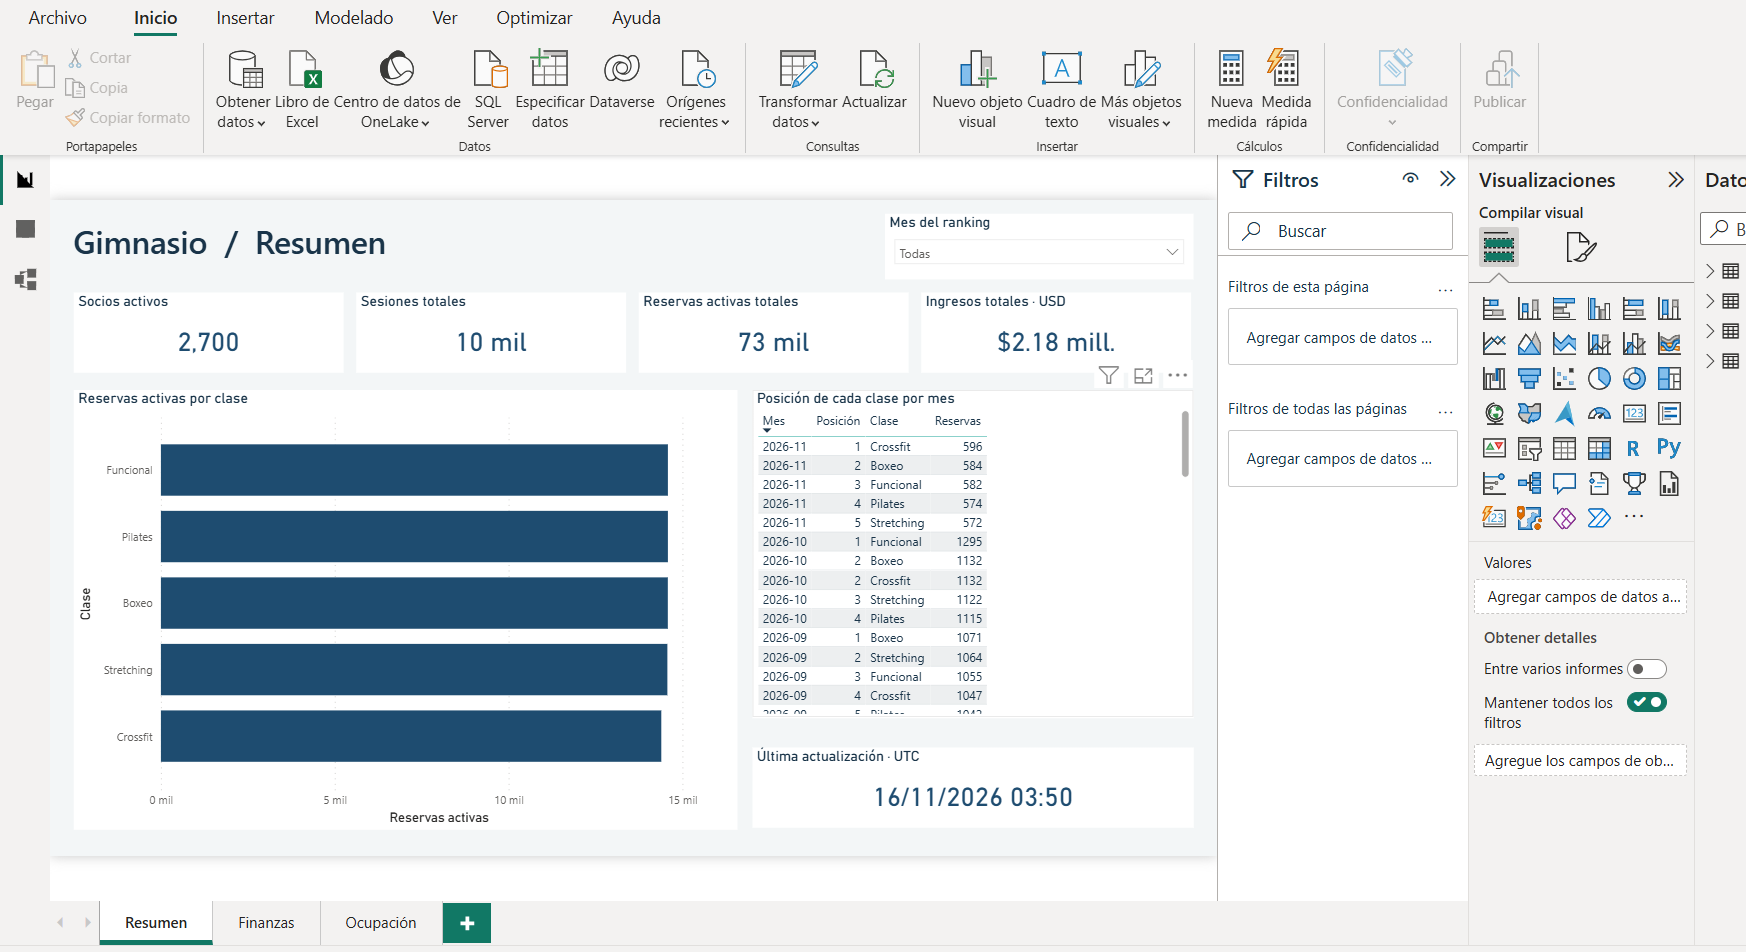

This screenshot's page, from the dashboard's own definition file:
{"tool":"powerbi","page":{"name":"Resumen","canvas":[1280,720],"ordinal":0},"visuals":[{"type":"textbox","box":[20,16,880,66],"z":1000},{"type":"slicer","title":"Mes del ranking","fields":{"Values":["RankingClases.Periodo"]},"box":[916,15,338,72],"z":2000},{"type":"card","title":"Socios activos","fields":{"Values":["Indicadores.Socios activos"]},"box":[26,101,296,88],"z":3000},{"type":"card","title":"Sesiones totales","fields":{"Values":["Indicadores.Sesiones totales"]},"box":[336,101,296,88],"z":4000},{"type":"card","title":"Reservas activas totales","fields":{"Values":["Indicadores.Reservas del gimnasio"]},"box":[646,101,296,88],"z":5000},{"type":"card","title":"Ingresos totales · USD","fields":{"Values":["Indicadores.Ingresos totales"]},"box":[956,101,296,88],"z":6000},{"type":"clusteredBarChart","title":"Reservas activas por clase","fields":{"Category":["RankingClases.Clase"],"Y":["RankingClases.Reservas activas"]},"box":[26,208,728,482],"z":7000},{"type":"tableEx","title":"Posición de cada clase por mes","fields":{"Values":["RankingClases.Periodo","RankingClases.Posicion","RankingClases.Clase","RankingClases.ReservasActivas"]},"box":[770,208,484,360],"z":8000},{"type":"card","title":"Última actualización · UTC","fields":{"Values":["Indicadores.Actualización UTC"]},"box":[770,601,484,88],"z":9000}]}

Visuals, with their boxes on the page's 1280x720 design canvas (x1, y1, x2, y2). These are canvas units, not pixel positions in the 1746x952 screenshot, which may show the page scaled, cropped or inside an application window:
textbox: rect(20, 16, 900, 82)
"Mes del ranking" slicer: rect(916, 15, 1254, 87)
"Socios activos" card: rect(26, 101, 322, 189)
"Sesiones totales" card: rect(336, 101, 632, 189)
"Reservas activas totales" card: rect(646, 101, 942, 189)
"Ingresos totales · USD" card: rect(956, 101, 1252, 189)
"Reservas activas por clase" clusteredBarChart: rect(26, 208, 754, 690)
"Posición de cada clase por mes" tableEx: rect(770, 208, 1254, 568)
"Última actualización · UTC" card: rect(770, 601, 1254, 689)
